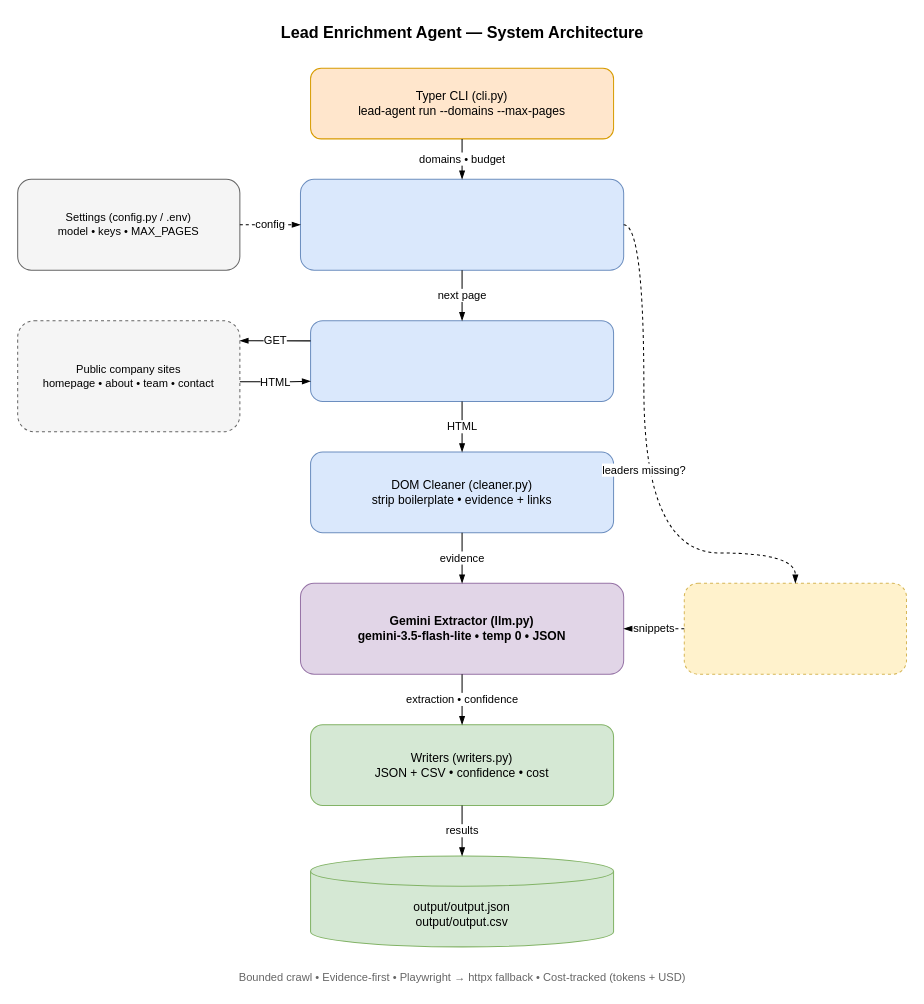
Some shapes in this 924 by 1004 pixel diagram are drawn without their labels. The centre of each missing label's shape, as x and y in pixels:
Enrichment Orchestrator (orchestrator.py) bounded loop • page-budget queue: (461,224)
PageFetcher (fetcher.py) Playwright → httpx fallback: (462,360)
Tavily Fallback (search.py) LinkedIn snippets • only if needed: (794,628)
